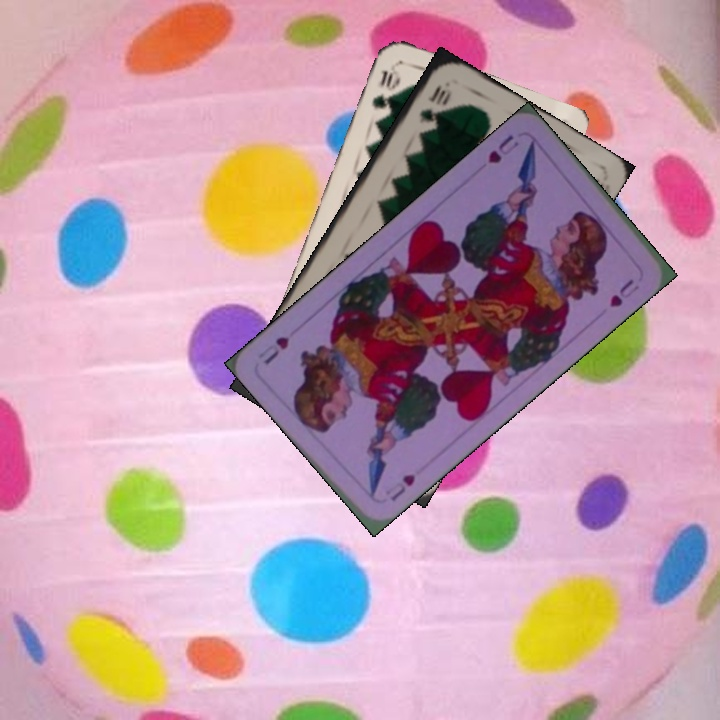G10: (368, 60, 403, 112), (415, 80, 452, 126)
HU: (484, 130, 522, 167), (380, 470, 418, 504)
